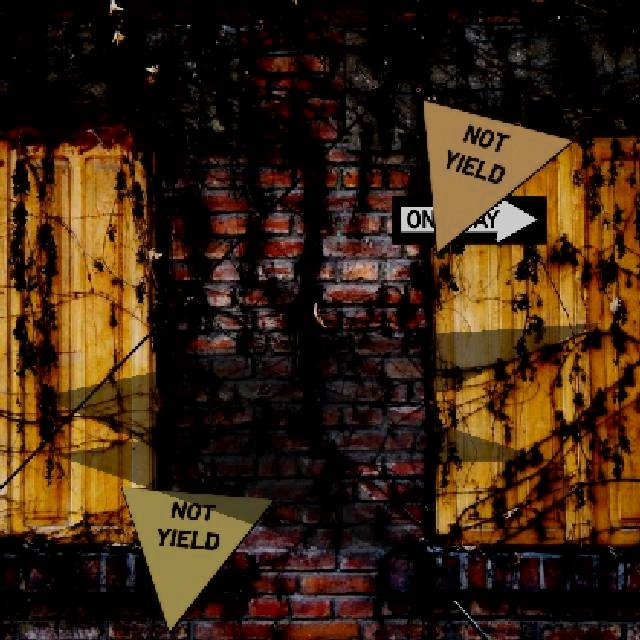NOT_YIELD: (420, 97, 574, 253), (119, 485, 275, 633)
ONE_WAY_ right: (390, 193, 546, 243)
